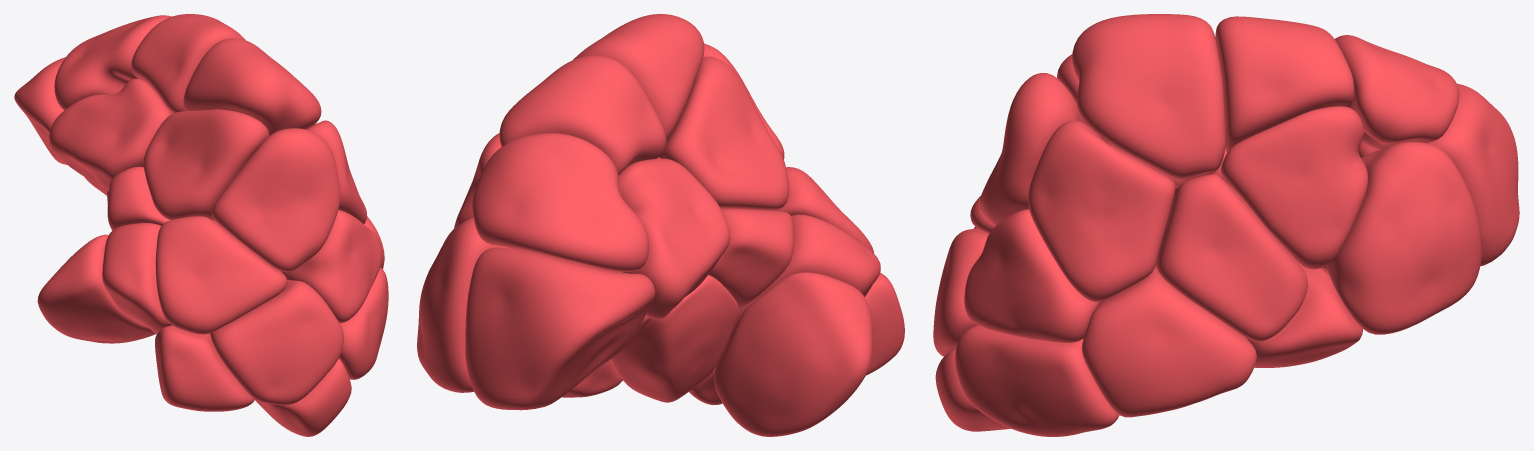
The model's file is intercalated 1.fbx.
3 renders of one model, left to right at view 1: azimuth 30°, elevation 25°; view 2: azimuth 150°, elevation 25°; view 3: azimuth 270°, elevation 25°, orthographic. The views are drawn at different scales.
Parts seen in each view (by area): view 1: iCells.015, iCells.014, iCells.010, iCells.007, iCells.020, iCells.024, iCells.016, iCells.003, iCells.011, iCells.023, iCells.002, iCells.017 (+5 smaller); view 2: iCells.001, iCells.016, iCells.002, iCells.007, iCells.023, iCells.020, iCells.025, iCells.005, iCells.024, iCells.018, iCells.017, iCells.003 (+5 smaller); view 3: iCells.005, iCells.024, iCells.021, iCells.006, iCells.004, iCells.019, iCells.023, iCells.008, iCells.011, iCells.002, iCells.001, iCells.015 (+4 smaller).
Boxes of the visible parts, x1,y1,x2,y2 form: iCells.015: (211, 128, 340, 271); iCells.014: (210, 280, 343, 405); iCells.010: (155, 216, 287, 334); iCells.007: (143, 109, 269, 219); iCells.020: (49, 78, 173, 189); iCells.024: (183, 38, 321, 135); iCells.016: (37, 234, 155, 343); iCells.003: (155, 325, 254, 411); iCells.011: (281, 210, 382, 323); iCells.023: (131, 14, 245, 112); iCells.002: (54, 15, 171, 110); iCells.017: (102, 223, 171, 334); iCells.001: (465, 247, 655, 410); iCells.016: (714, 272, 872, 436); iCells.002: (472, 133, 648, 271); iCells.007: (659, 56, 789, 210); iCells.023: (499, 55, 666, 175); iCells.020: (618, 158, 730, 319); iCells.025: (611, 274, 739, 402); iCells.005: (417, 217, 514, 392); iCells.024: (573, 14, 704, 139); iCells.018: (709, 208, 793, 308); iCells.017: (730, 214, 880, 336); iCells.003: (864, 273, 904, 375); iCells.005: (1326, 142, 1481, 334); iCells.024: (1072, 14, 1225, 187); iCells.021: (1028, 120, 1175, 302); iCells.006: (1081, 266, 1256, 417); iCells.004: (1221, 106, 1368, 269); iCells.019: (1155, 174, 1307, 341); iCells.023: (1215, 16, 1354, 152); iCells.008: (955, 325, 1119, 436); iCells.011: (964, 209, 1101, 342); iCells.002: (1335, 35, 1459, 149); iCells.001: (1358, 83, 1519, 266); iCells.015: (980, 73, 1082, 225).
Bounding box in the file's own units: 370 × 370 × 470.
